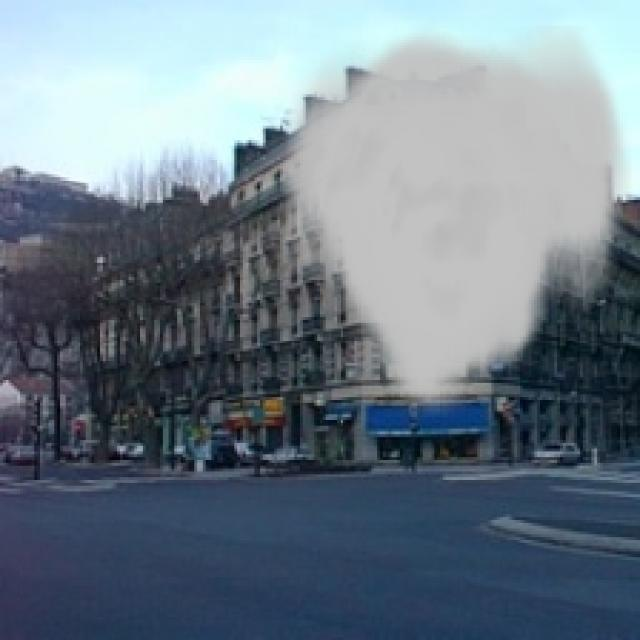Smoke: (268, 26, 632, 417)
